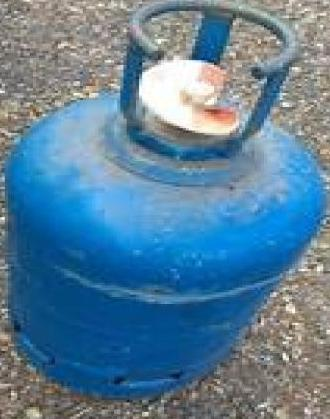cylinder: (1, 0, 330, 419)
